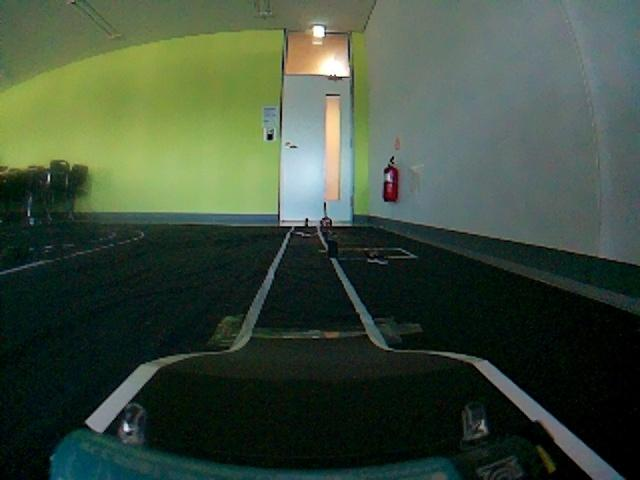go: (30, 370, 637, 480)
hill_down: (108, 268, 514, 366)
